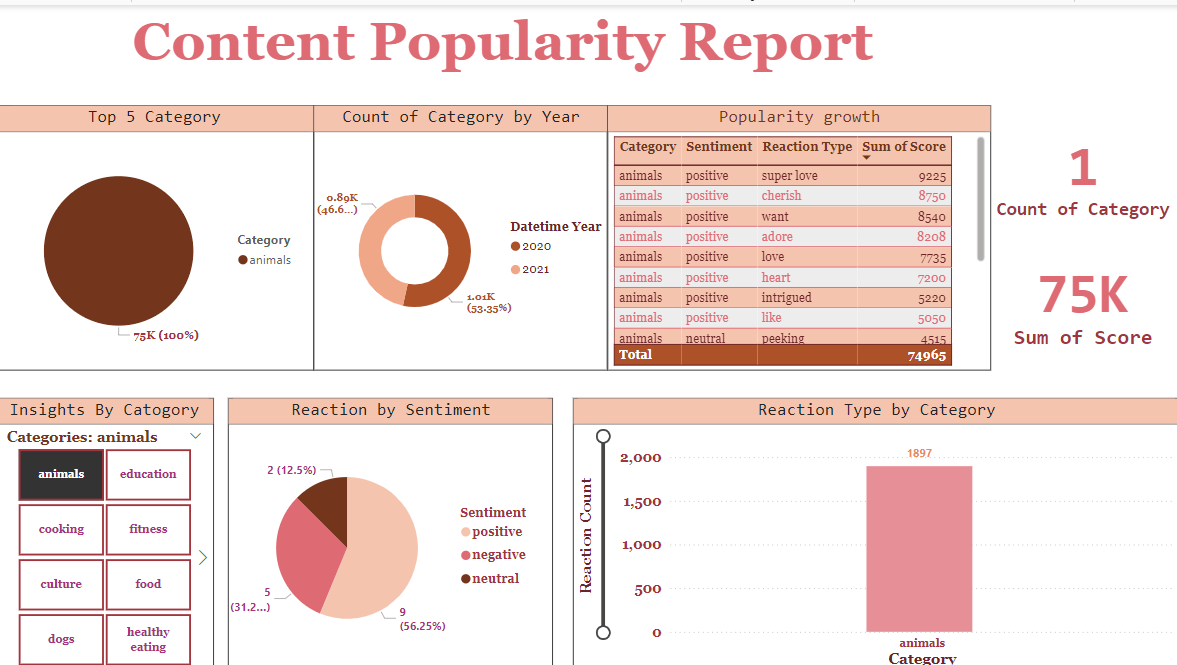

What the dashboard file says about the page in this screenshot:
{"tool":"powerbi","page":{"name":"Page 2","canvas":[1280,720],"ordinal":0},"visuals":[{"type":"card","fields":{"Values":["Count(Task 3_Final Content Data set.Category)"]},"box":[1070.6,107.8,209.8,143.1],"z":0},{"type":"card","fields":{"Values":["Sum(Task 3_Final Content Data set.Score)"]},"box":[1070.6,243.1,209.8,151],"z":1000},{"type":"donutChart","fields":{"Category":["Task 3_Final Content Data set.Datetime.Variation.Date Hierarchy.Year","Task 3_Final Content Data set.Datetime.Variation.Date Hierarchy.Month"],"Y":["CountNonNull(Task 3_Final Content Data set.Category)"]},"box":[345.1,107.8,317.6,286.3],"z":2000},{"type":"pieChart","title":"Reaction by Sentiment","fields":{"Y":["Count(Task 3_Final Content Data set.Reaction Type)"],"Category":["Task 3_Final Content Data set.Sentiment"]},"box":[252.9,423.5,351,296.1],"z":3000},{"type":"columnChart","title":"Reaction Type by Category","fields":{"Category":["Task 3_Final Content Data set.Category"],"Y":["CountNonNull(Task 3_Final Content Data set.Reaction Type)"]},"box":[625.5,423.5,654.9,296.1],"z":4000},{"type":"tableEx","title":"Popularity growth","fields":{"Values":["Task 3_Final Content Data set.Category","Task 3_Final Content Data set.Sentiment","Task 3_Final Content Data set.Reaction Type","Sum(Task 3_Final Content Data set.Score)"]},"box":[662.7,107.8,413.7,286.3],"z":5000},{"type":"slicer","title":"Insights By Catogory","fields":{"Values":["Task 3_Final Content Data set.Category"]},"box":[0,423.5,237.3,296.1],"z":6000},{"type":"pieChart","title":"Top 5 Category","fields":{"Category":["Task 3_Final Content Data set.Category"],"Y":["Sum(Task 3_Final Content Data set.Score)"]},"box":[0,107.8,345.1,286.3],"z":7000},{"type":"textbox","box":[19.6,0,1074.5,107.8],"z":8000}]}

Visuals, with their boxes in screenshot pixels (x1, y1, x2, y2), scaled from the page's 1280x720 canvas onto the 1177x665 screenshot:
card - Count(Task 3_Final Content Data set.Category): [left=984, top=100, right=1176, bottom=232]
card - Sum(Task 3_Final Content Data set.Score): [left=984, top=225, right=1176, bottom=364]
donutChart - Task 3_Final Content Data set.Datetime.Variation.Date Hierarchy.Year x Task 3_Final Content Data set.Datetime.Variation.Date Hierarchy.Month: [left=317, top=100, right=609, bottom=364]
"Reaction by Sentiment" pieChart: [left=233, top=391, right=555, bottom=664]
"Reaction Type by Category" columnChart: [left=575, top=391, right=1176, bottom=664]
"Popularity growth" tableEx: [left=609, top=100, right=990, bottom=364]
"Insights By Catogory" slicer: [left=0, top=391, right=218, bottom=664]
"Top 5 Category" pieChart: [left=0, top=100, right=317, bottom=364]
textbox: [left=18, top=0, right=1006, bottom=100]
